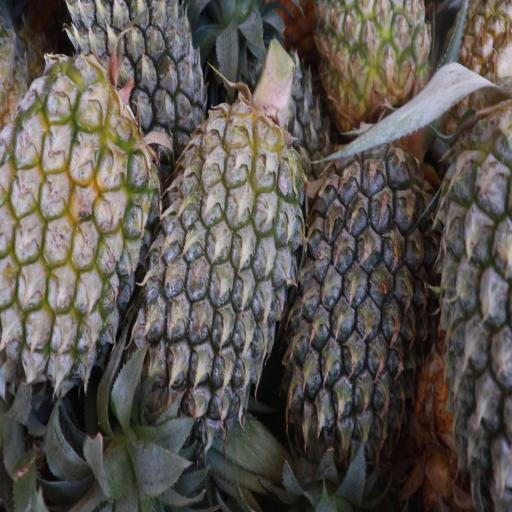------------------------------: (0, 62, 153, 386), (318, 0, 427, 128)
